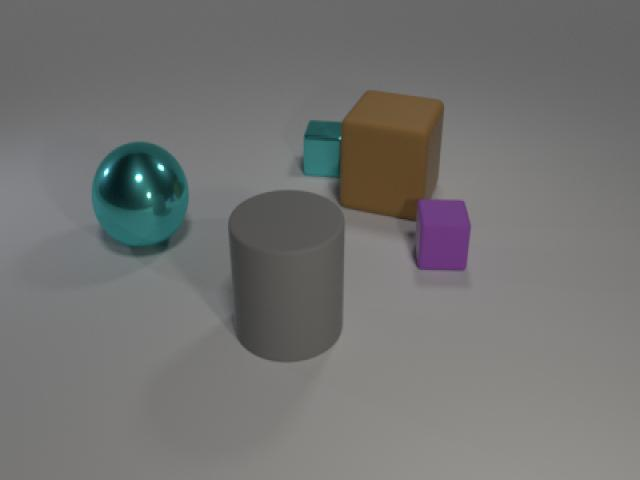cylinder: (223, 182, 354, 372)
round ball: (86, 129, 192, 257)
